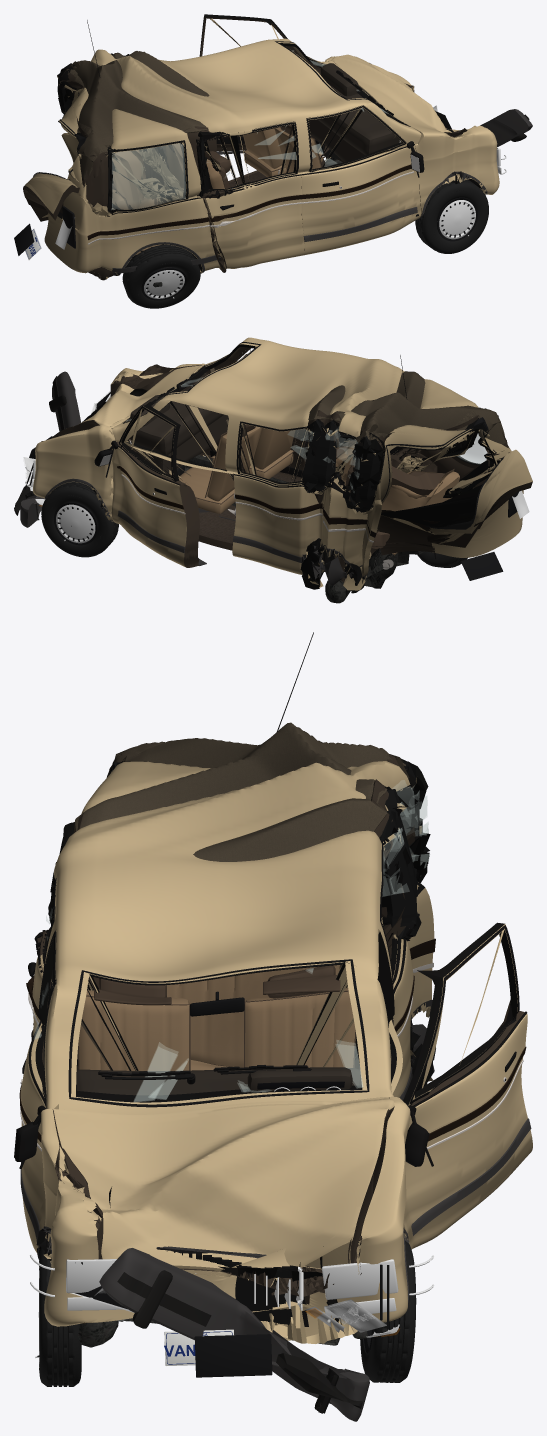
Rendered from minivan86_rear_corner_d3.glb.
3 views of the same model, one above another, from view 1: azimuth 30°, elevation 25°; view 2: azimuth 150°, elevation 25°; view 3: azimuth 270°, elevation 25° (orthographic). The views are drawn at different scales.
Parts seen in each view (by area): view 1: Body, Interior, Door_FR, Door_SR, Glass, Wheel_FR_mesh, Wheel_RR_mesh, Hood, Liftgate, Trim, Trim_FR, Trim_SR (+4 smaller); view 2: Body, Interior, Liftgate, Door_FL, Glass, Wheel_FL_mesh, Trim, Hood, Bumper_F, Trim_FL, Underbody, Ends (+3 smaller); view 3: Body, Hood, Interior, Door_FL, Bumper_F, Ends, Glass, Trim_FL, Trim, Door_FR, Wheel_FL_mesh, Wheel_FR_mesh (+3 smaller).
Part boxes in pixels (left/top/right/bottom): Body: left=44, top=38, right=499, bottom=280; Interior: left=112, top=63, right=399, bottom=254; Door_FR: left=301, top=105, right=420, bottom=255; Door_SR: left=198, top=121, right=304, bottom=268; Glass: left=58, top=41, right=410, bottom=212; Wheel_FR_mesh: left=415, top=179, right=488, bottom=253; Wheel_RR_mesh: left=122, top=244, right=200, bottom=308; Hood: left=328, top=54, right=467, bottom=148; Liftgate: left=23, top=65, right=111, bottom=221; Trim: left=57, top=20, right=487, bottom=275; Trim_FR: left=301, top=105, right=424, bottom=241; Trim_SR: left=197, top=122, right=301, bottom=227; Body: left=33, top=337, right=523, bottom=593; Interior: left=130, top=354, right=459, bottom=555; Liftgate: left=369, top=408, right=532, bottom=547; Door_FL: left=111, top=402, right=199, bottom=567; Glass: left=123, top=342, right=490, bottom=512; Wheel_FL_mesh: left=41, top=482, right=118, bottom=557; Trim: left=45, top=355, right=480, bottom=591; Hood: left=51, top=365, right=202, bottom=438; Bumper_F: left=14, top=371, right=80, bottom=527; Trim_FL: left=94, top=406, right=210, bottom=565; Underbody: left=67, top=455, right=424, bottom=603; Ends: left=24, top=391, right=529, bottom=580; Body: left=31, top=722, right=434, bottom=1343; Hood: left=53, top=1097, right=394, bottom=1304; Interior: left=76, top=964, right=361, bottom=1095; Door_FL: left=403, top=922, right=532, bottom=1249; Bumper_F: left=99, top=1248, right=369, bottom=1421; Ends: left=30, top=1254, right=434, bottom=1377; Glass: left=68, top=761, right=429, bottom=1107; Trim_FL: left=405, top=925, right=531, bottom=1235; Trim: left=37, top=632, right=435, bottom=1302; Door_FR: left=20, top=930, right=56, bottom=1253; Wheel_FL_mesh: left=360, top=1241, right=416, bottom=1382; Wheel_FR_mesh: left=35, top=1248, right=81, bottom=1386.
Size of the model in its own units: 4.52 by 2.3 by 2.27.
33 materials, 5 textured.
